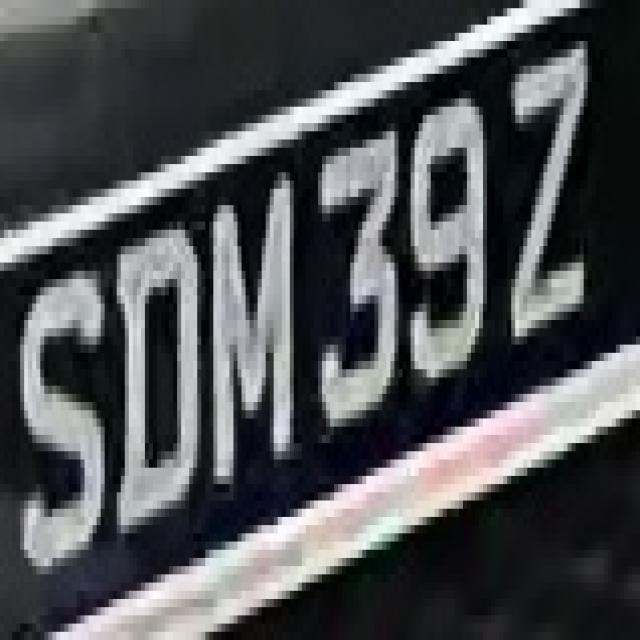3: (298, 115, 406, 435)
9: (399, 90, 495, 386)
D: (113, 222, 209, 542)
M: (197, 172, 310, 484)
S: (4, 262, 105, 574)
Z: (499, 25, 596, 361)
